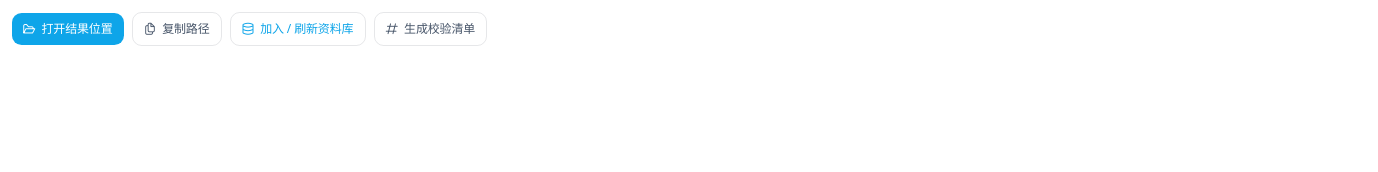
result checksums v1.5.25 › resolves legacy split results and explains missing members instead of passing only the first
The image size is (1378, 172).
Click the button with test id "result-generate-checksums".
click(430, 29)  # box [374, 12, 487, 46]
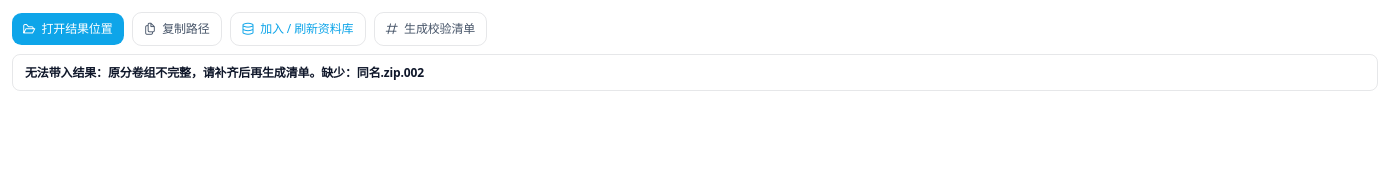
expect the message "无法带入结果：原分卷组不完整，请补齐后再生成清单。缺少：同名.zip.002" is shown: met, box [12, 54, 1377, 92]
